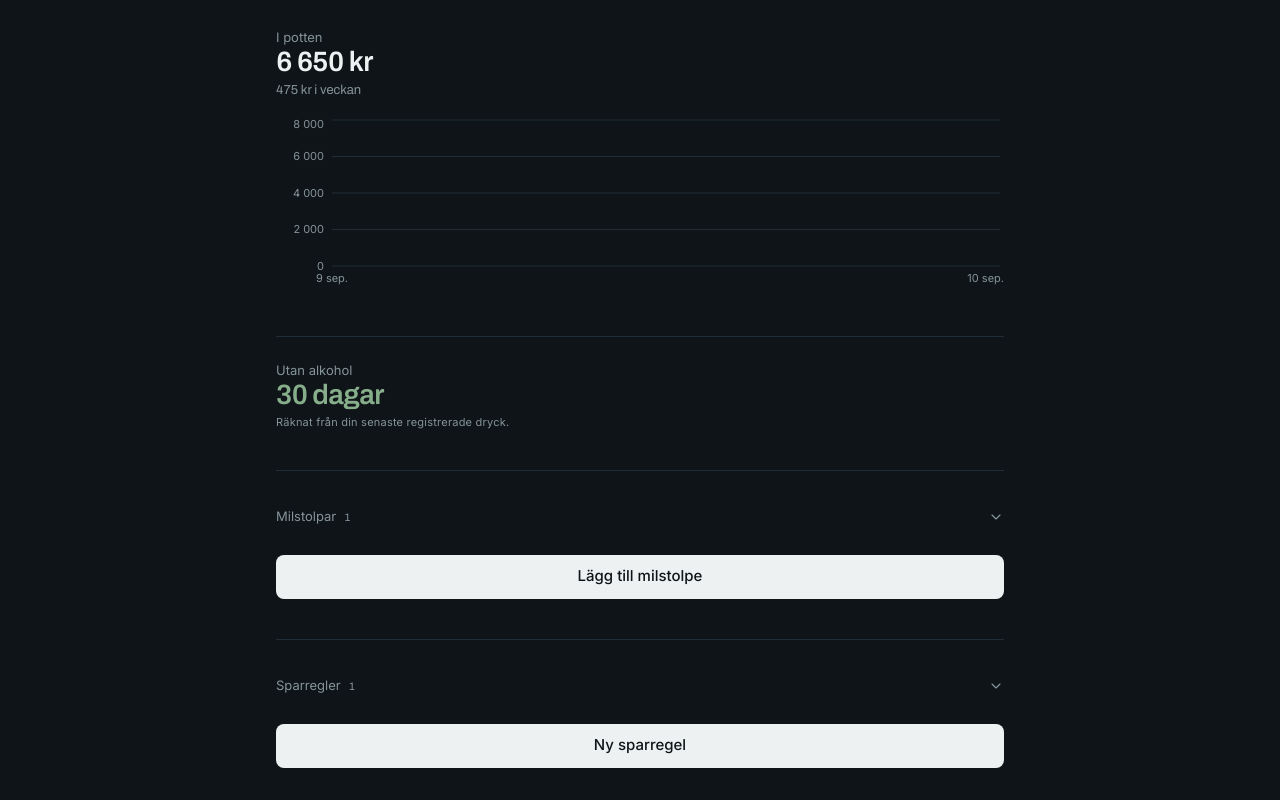
Test: Framsteg › does the same for a savings rule, and closes on Escape
(page scrolled)
Click the button with test id "open-rule-form" at (640, 746), box [276,724,1004,768]
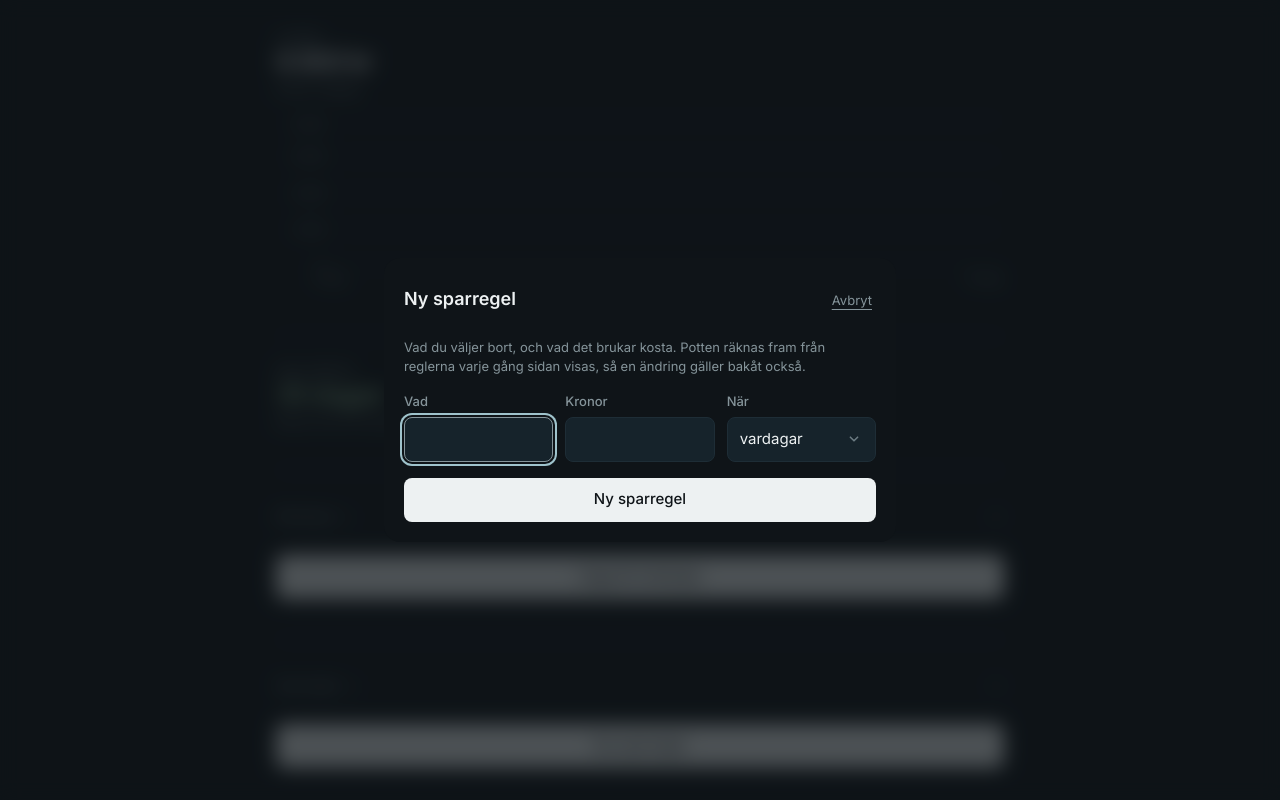
Expected: the dialog with test id "rule-sheet" is shown, [384,258,896,542]
Expected: the button with test id "add-rule" is shown, [404,478,876,522]
Press Escape
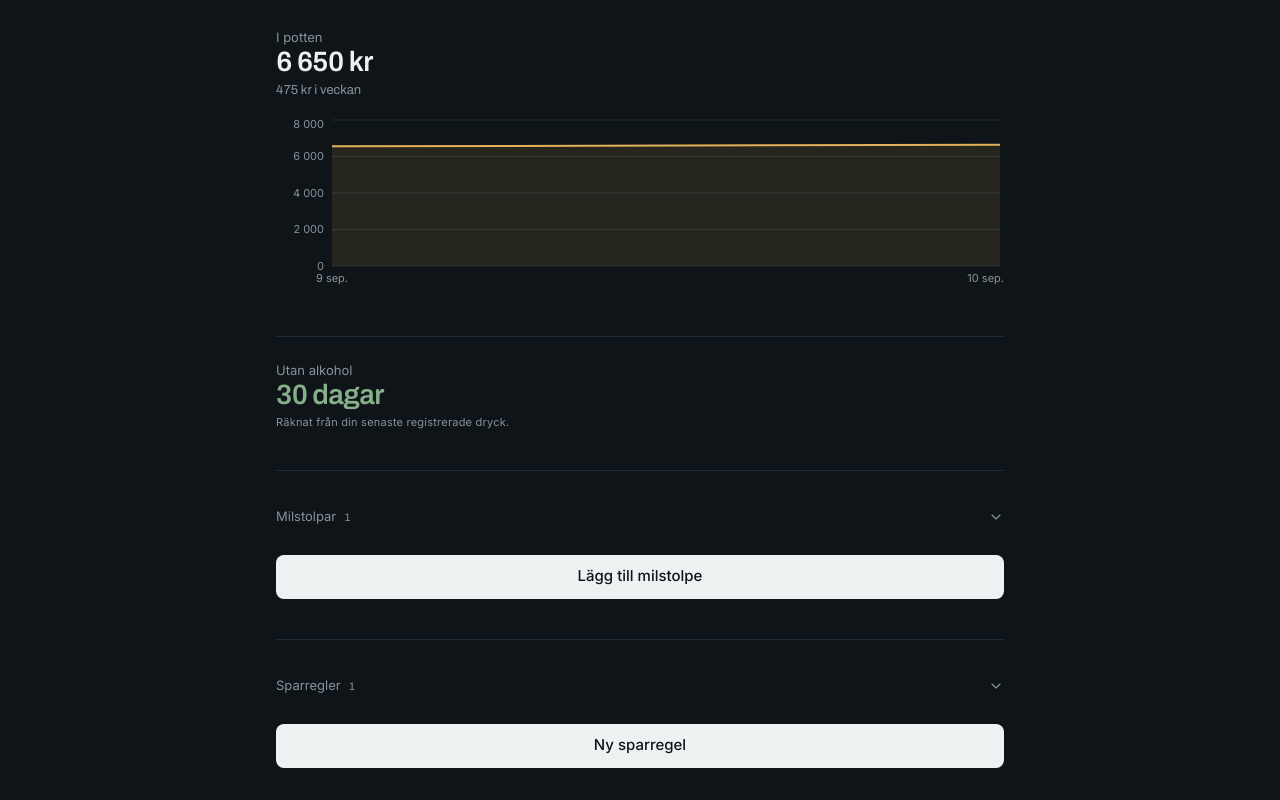
Expected: the dialog with test id "rule-sheet" is gone
